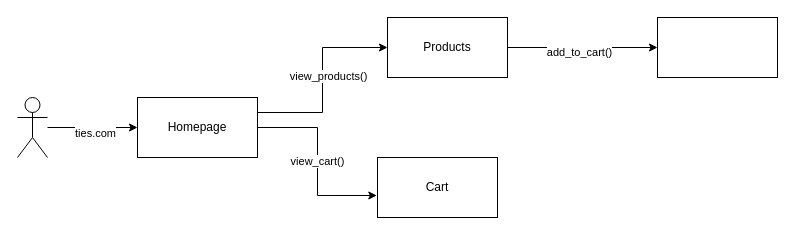
The diagram is 795 pixels wide and 235 high, and some of its shapes have lost their labels. The box of each missing label's shape, as (x1, y1, x2, y2) in pixels:
Add to cart: (656, 16, 778, 78)
User: (16, 96, 48, 158)
